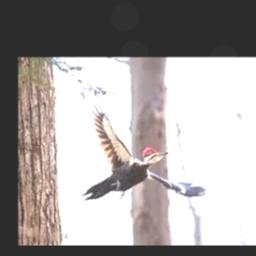Woodpecker: (82, 96, 207, 199)
